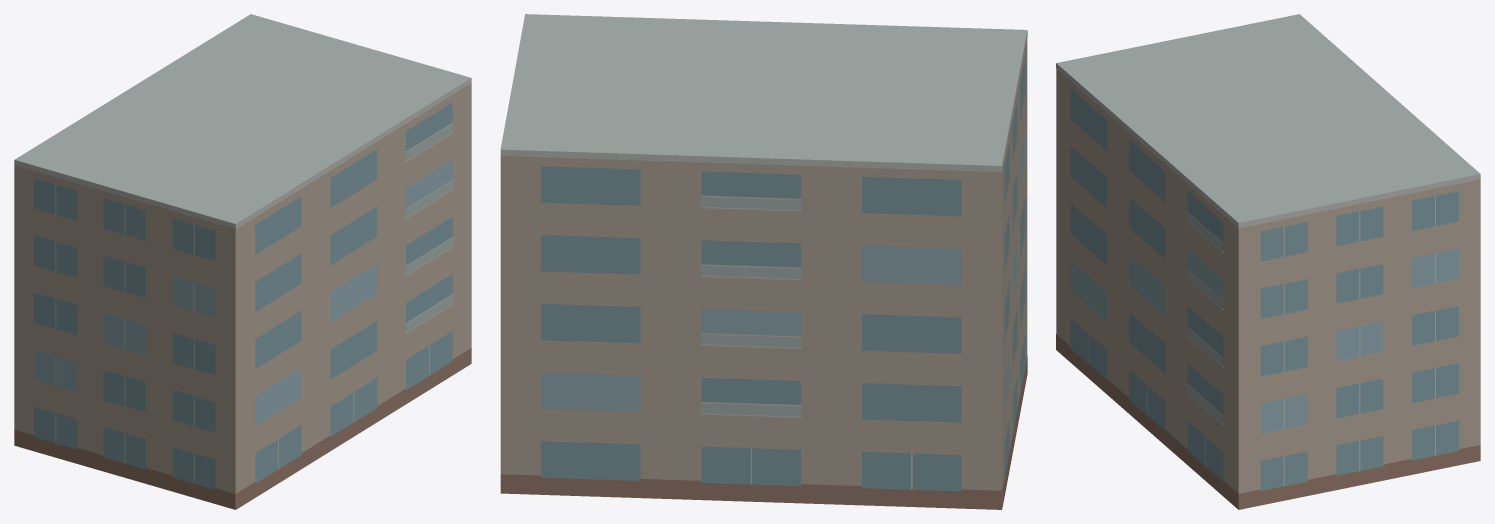
Rendered from survey-upis-32697204.glb.
3 views of the same model, side by side, from view 1: azimuth 30°, elevation 25°; view 2: azimuth 150°, elevation 25°; view 3: azimuth 270°, elevation 25° (orthographic). The views are drawn at different scales.
Parts seen in each view (by area): view 1: survey-upis-32697204.tmp; view 2: survey-upis-32697204.tmp; view 3: survey-upis-32697204.tmp.
Boxes of the visible parts, x1,y1,x2,y2 form: survey-upis-32697204.tmp: [14, 14, 471, 509]; survey-upis-32697204.tmp: [500, 14, 1027, 509]; survey-upis-32697204.tmp: [1056, 14, 1480, 509].
Bounding box in the file's own units: 20.8 × 13.3 × 17.85.
